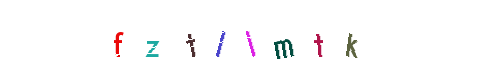F: (121, 0, 201, 80)
K: (248, 0, 328, 80)
L: (204, 0, 284, 80), (210, 0, 290, 80)
M: (217, 0, 297, 80)
T: (180, 0, 260, 80), (243, 0, 323, 80)
Z: (174, 0, 254, 80)
